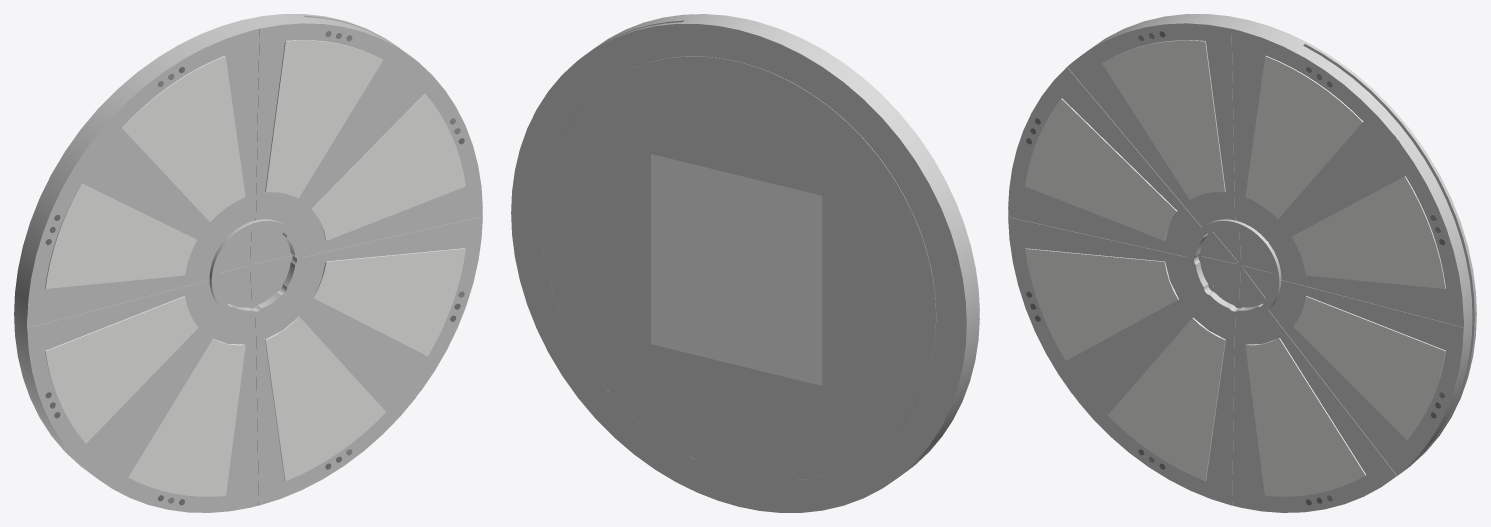
The model's file is webtest2.glb.
3 renders of one model, left to right at view 1: azimuth 30°, elevation 25°; view 2: azimuth 150°, elevation 25°; view 3: azimuth 330°, elevation 25°, orthographic.
Parts seen in each view (by area): view 1: Body8, Body46, Body44, Body43, Body49, Body45, Body47, Body50, Body48, Body1; view 2: Body8, alia1; view 3: Body8, Body46, Body44, Body43, Body45, Body49, Body47, Body50, Body48, Body1.
Boxes of the visible parts, x1,y1,x2,y2 form: Body8: [14, 14, 482, 512]; Body46: [122, 56, 245, 221]; Body44: [265, 316, 385, 481]; Body43: [312, 93, 465, 240]; Body49: [128, 338, 245, 496]; Body45: [45, 296, 198, 443]; Body47: [265, 40, 382, 198]; Body50: [313, 248, 465, 356]; Body48: [45, 183, 196, 288]; Body1: [209, 219, 302, 318]; Body8: [511, 14, 979, 512]; alia1: [651, 154, 822, 385]; Body8: [1008, 14, 1476, 512]; Body46: [1102, 40, 1225, 199]; Body44: [1245, 338, 1365, 496]; Body43: [1292, 176, 1445, 288]; Body45: [1025, 248, 1178, 360]; Body49: [1108, 318, 1225, 481]; Body47: [1245, 56, 1363, 219]; Body50: [1293, 296, 1445, 440]; Body48: [1025, 98, 1177, 240]; Body1: [1188, 219, 1281, 318].
Size of the model in its own units: 0.12 by 0.12 by 0.008.
6 materials, 1 textured.
